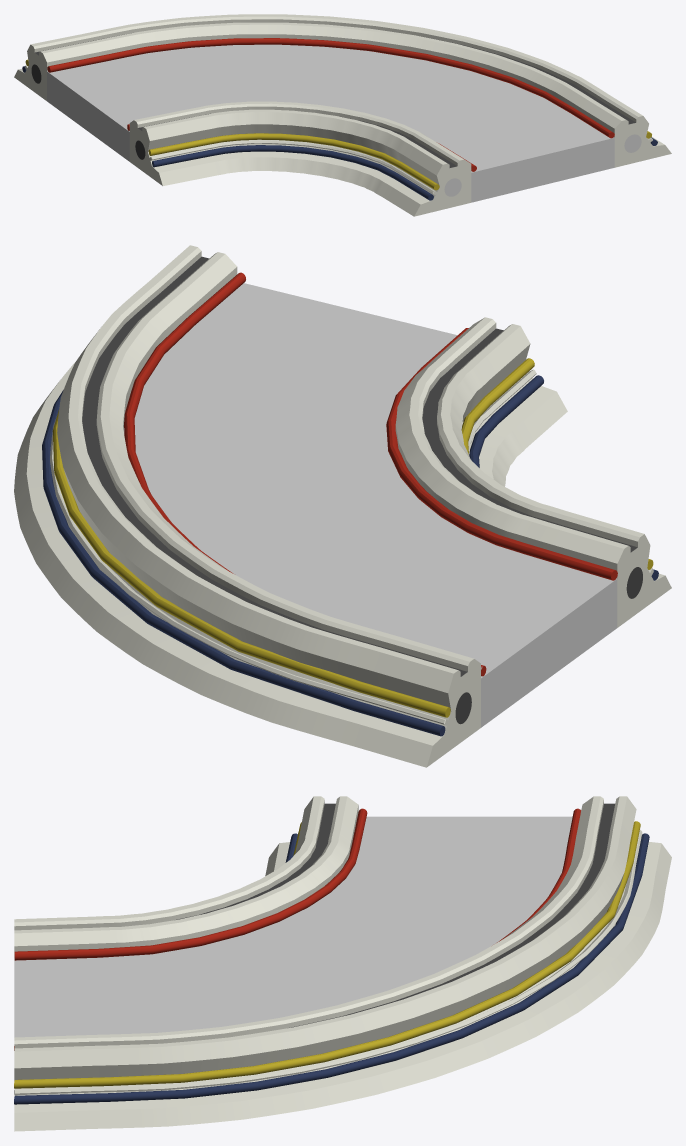
File: RampaCurva.fbx
3 views of the same model, one above another, from view 1: azimuth 30°, elevation 25°; view 2: azimuth 150°, elevation 25°; view 3: azimuth 270°, elevation 25° (orthographic). The views are drawn at different scales.
Visible parts, largest first — view 1: Cube.002, Cube.004; view 2: Cube.002, Cube.004; view 3: Cube.002, Cube.004.
Part boxes in pixels (bbox=[...]): Cube.002: bbox=[14, 14, 671, 216]; Cube.004: bbox=[47, 44, 614, 202]; Cube.002: bbox=[14, 245, 671, 767]; Cube.004: bbox=[124, 283, 617, 727]; Cube.002: bbox=[14, 796, 671, 1131]; Cube.004: bbox=[14, 816, 572, 1037].
Size of the model in its own units: 725 by 75 by 735.
